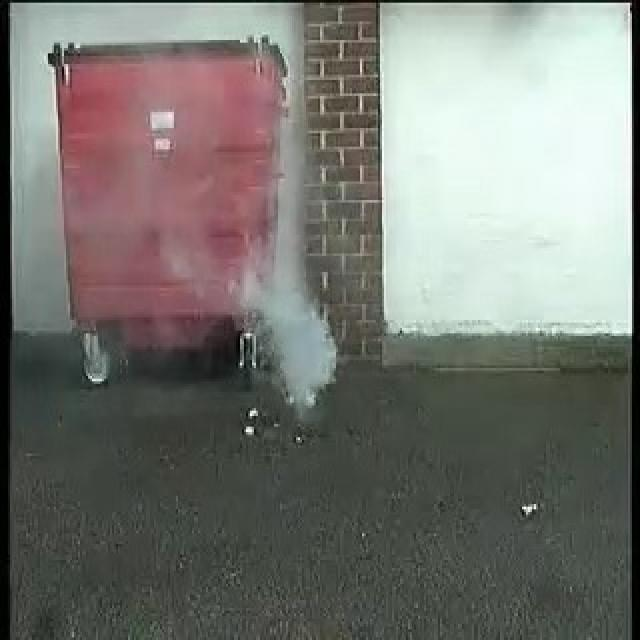smoke: (238, 200, 336, 408)
